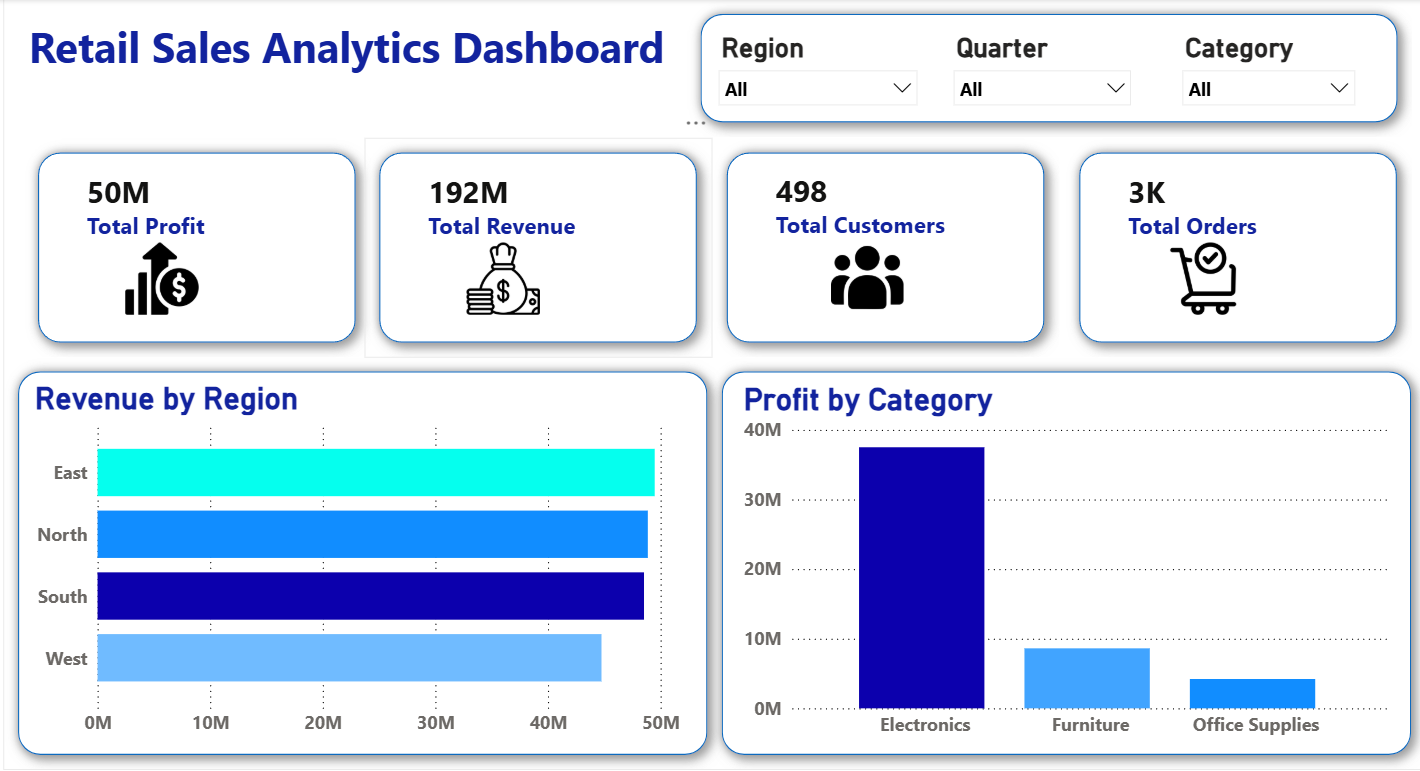

The dashboard page shown, as its layout file describes it:
{"tool":"powerbi","page":{"name":"Executive Summary","canvas":[1280,720],"ordinal":0},"visuals":[{"type":"group","id":"g1","title":"Group 1","box":[619.3,0,649.1,123.5],"z":0,"group":"g6"},{"type":"shape","box":[619.3,0,649.1,123.5],"z":0,"group":"g1"},{"type":"group","id":"g2","title":"Group 1","box":[27.8,123.5,310.1,196.2],"z":0,"group":"g10"},{"type":"shape","box":[27.8,123.5,310.1,196.2],"z":0,"group":"g2"},{"type":"shape","box":[332.5,123.5,310.1,196.2],"z":0,"group":"g3"},{"type":"shape","box":[642.6,123.5,310.1,196.2],"z":0,"group":"g4"},{"type":"shape","box":[958.2,123.5,310.1,196.2],"z":0,"group":"g5"},{"type":"shape","box":[10,319.7,642.2,369.1],"z":0,"group":"g7"},{"type":"shape","box":[638.5,319.7,642.2,369.1],"z":0,"group":"g8"},{"type":"clusteredBarChart","title":"Revenue by Region","fields":{"Y":["Sum(Orders_Big.Revenue)"],"Category":["Orders_Big.Region"]},"box":[33.3,340.3,585.9,328],"z":0,"group":"g9"},{"type":"slicer","fields":{"Values":["Orders_Big.OrderDate.Variation.Date Hierarchy.Quarter"]},"box":[848.3,24.7,179.2,90.6],"z":1000,"group":"g6"},{"type":"group","id":"g3","title":"Group 1","box":[332.5,123.5,310.1,196.2],"z":1000,"group":"g10"},{"type":"cardVisual","fields":{"Data":["Orders_Big.Total Customers"]},"box":[670,134,222.3,164.7],"z":1000,"group":"g4"},{"type":"cardVisual","fields":{"Data":["Orders_Big.Total profit"]},"box":[55.7,134.5,192.1,164.7],"z":1000,"group":"g2"},{"type":"cardVisual","fields":{"Data":["Orders_Big.Total Revenue"]},"box":[360.4,134.5,192.1,164.7],"z":1000,"group":"g3"},{"type":"cardVisual","fields":{"Data":["Orders_Big.Total Orders"]},"box":[986.1,134.5,192.1,164.7],"z":1000,"group":"g5"},{"type":"columnChart","title":"Profit by Category","fields":{"Y":["Sum(Orders_Big.Profit)"],"Category":["Products_Big.Category"]},"box":[665.9,341.7,585.9,328],"z":1000,"group":"g9"},{"type":"slicer","fields":{"Values":["Products_Big.Category"]},"box":[1052.4,24.7,174.4,79.6],"z":2000,"group":"g6"},{"type":"group","id":"g4","title":"Group 1","box":[642.6,123.5,310.1,196.2],"z":2000,"group":"g10"},{"type":"slicer","fields":{"Values":["Orders_Big.Region"]},"box":[638.3,24.7,198.2,74.1],"z":3000,"group":"g6"},{"type":"group","id":"g5","title":"Group 1","box":[958.2,123.5,310.1,196.2],"z":3000,"group":"g10"},{"type":"group","id":"g6","title":"Group 2","box":[619.3,0,649.1,123.5],"z":4000,"group":"g10"},{"type":"group","id":"g7","title":"Group 1","box":[10,319.7,642.2,369.1],"z":5000,"group":"g10"},{"type":"textbox","box":[27.8,12.3,591.4,89.2],"z":6000,"group":"g10"},{"type":"group","id":"g8","title":"Group 1","box":[638.5,319.7,642.2,369.1],"z":7000,"group":"g10"},{"type":"group","id":"g9","title":"Group 3","box":[33.3,340.3,1218.5,329.3],"z":8002,"group":"g10"},{"type":"group","id":"g10","title":"Group 4","box":[10,0,1270,688.6],"z":8003}]}

Visuals, with their boxes on the page's 1280x720 design canvas (x1, y1, x2, y2). These are canvas units, not pixel positions in the 1420x771 screenshot, which may show the page scaled, cropped or inside an application window:
"Group 1" group: (left=619, top=0, right=1268, bottom=124)
shape: (left=619, top=0, right=1268, bottom=124)
"Group 1" group: (left=28, top=124, right=338, bottom=320)
shape: (left=28, top=124, right=338, bottom=320)
shape: (left=332, top=124, right=643, bottom=320)
shape: (left=643, top=124, right=953, bottom=320)
shape: (left=958, top=124, right=1268, bottom=320)
shape: (left=10, top=320, right=652, bottom=689)
shape: (left=638, top=320, right=1281, bottom=689)
"Revenue by Region" clusteredBarChart: (left=33, top=340, right=619, bottom=668)
slicer - Orders_Big.OrderDate.Variation.Date Hierarchy.Quarter: (left=848, top=25, right=1028, bottom=115)
"Group 1" group: (left=332, top=124, right=643, bottom=320)
cardVisual - Orders_Big.Total Customers: (left=670, top=134, right=892, bottom=299)
cardVisual - Orders_Big.Total profit: (left=56, top=134, right=248, bottom=299)
cardVisual - Orders_Big.Total Revenue: (left=360, top=134, right=552, bottom=299)
cardVisual - Orders_Big.Total Orders: (left=986, top=134, right=1178, bottom=299)
"Profit by Category" columnChart: (left=666, top=342, right=1252, bottom=670)
slicer - Products_Big.Category: (left=1052, top=25, right=1227, bottom=104)
"Group 1" group: (left=643, top=124, right=953, bottom=320)
slicer - Orders_Big.Region: (left=638, top=25, right=836, bottom=99)
"Group 1" group: (left=958, top=124, right=1268, bottom=320)
"Group 2" group: (left=619, top=0, right=1268, bottom=124)
"Group 1" group: (left=10, top=320, right=652, bottom=689)
textbox: (left=28, top=12, right=619, bottom=102)
"Group 1" group: (left=638, top=320, right=1281, bottom=689)
"Group 3" group: (left=33, top=340, right=1252, bottom=670)
"Group 4" group: (left=10, top=0, right=1280, bottom=689)
